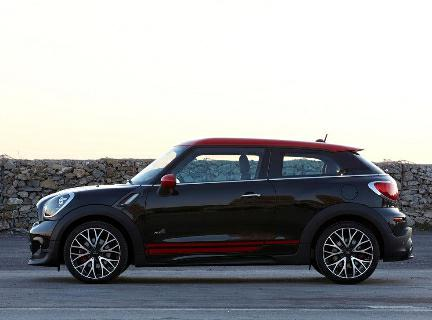MINI-JCWPACEMAN: (25, 135, 416, 279)
